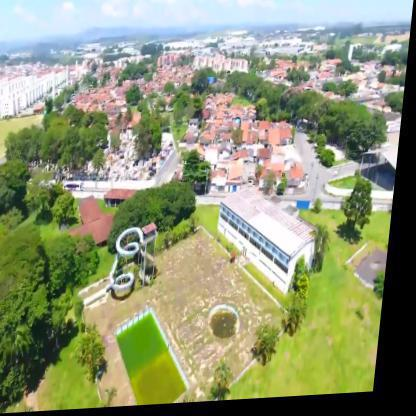agua: (120, 319, 173, 372), (133, 363, 199, 398), (215, 306, 250, 350)
